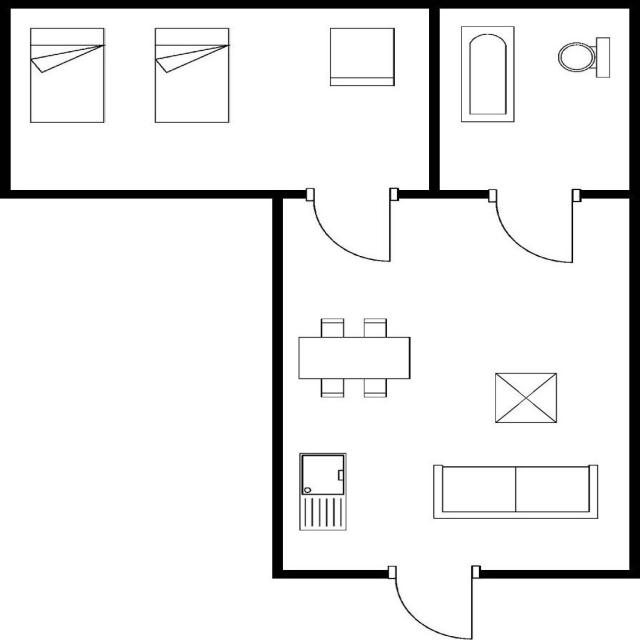bed: (24, 24, 110, 126), (151, 24, 232, 125)
coffee_table: (491, 369, 562, 427)
dining_table: (292, 314, 416, 399)
large_sink: (554, 34, 615, 82)
large_sofa: (428, 461, 602, 522)
sink: (294, 449, 350, 534)
small_sofa: (325, 24, 398, 90)
tub: (456, 22, 519, 124)
